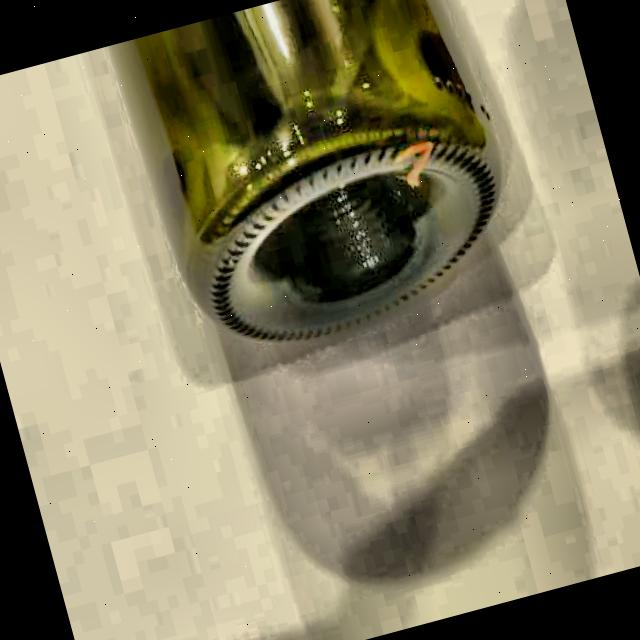glass: (100, 0, 536, 383)
